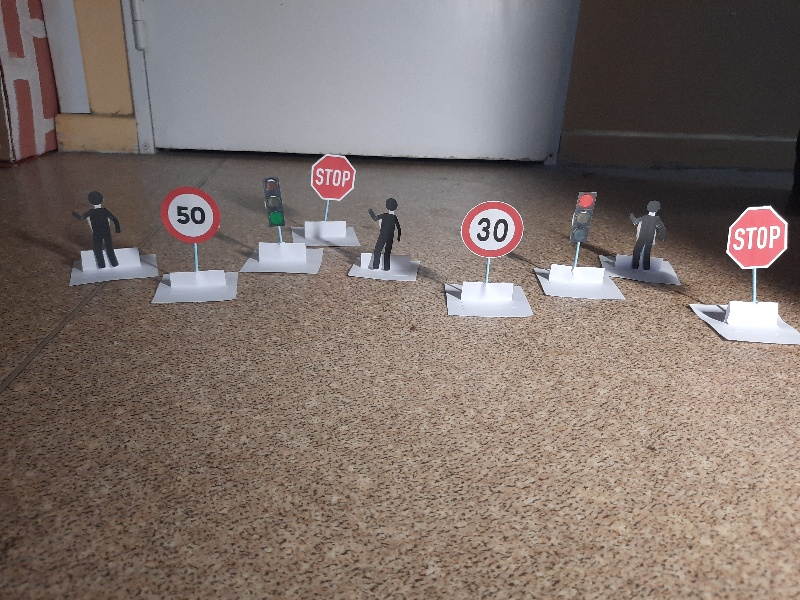Green: (260, 177, 287, 228)
Limit 30: (462, 203, 523, 257)
Limit 50: (162, 190, 219, 240)
Person: (74, 192, 121, 269), (627, 198, 669, 273), (366, 197, 406, 272)
Red: (571, 193, 596, 241)
Stop: (728, 207, 787, 273), (311, 154, 355, 197)
